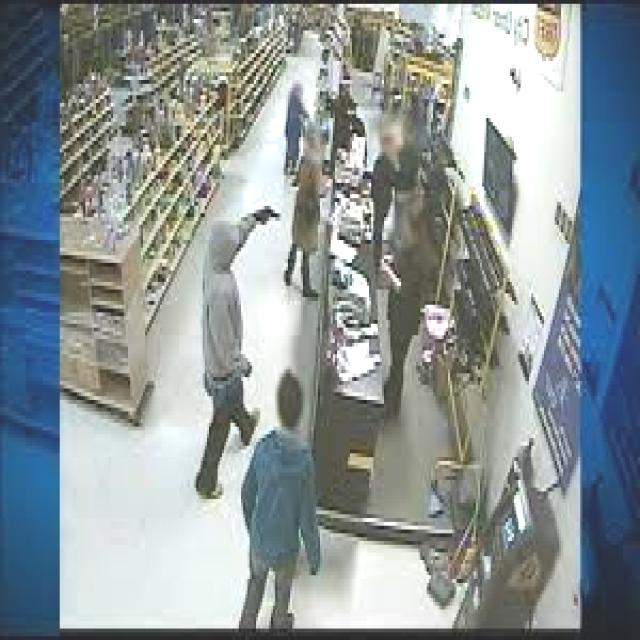pistol: (249, 183, 286, 244)
